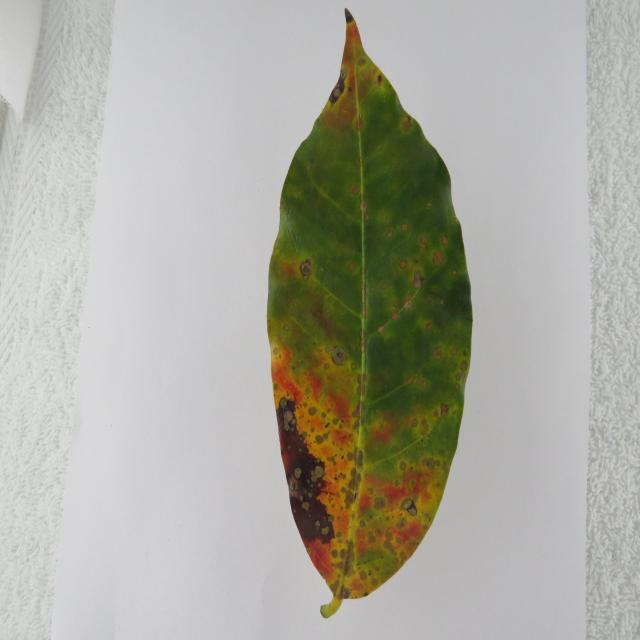DeficienciaNutricional-Fosforo: (268, 10, 472, 618)
